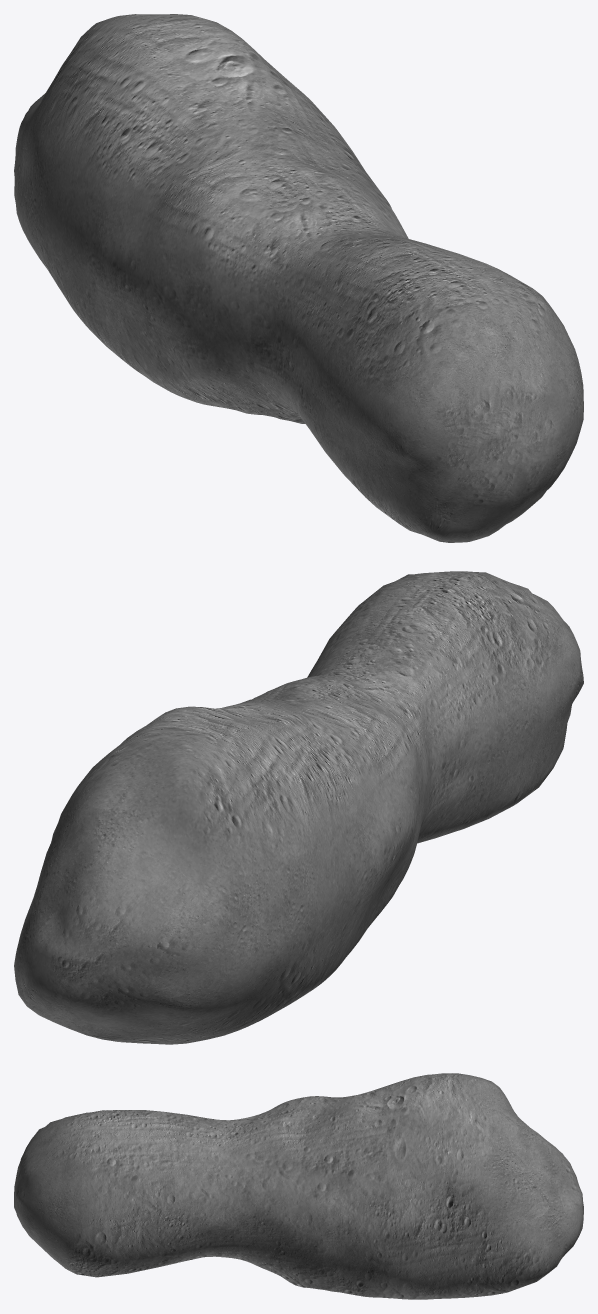
Rendered from hartley.glb.
The picture shows the model from 3 angles, top to bottom: view 1: azimuth 30°, elevation 25°; view 2: azimuth 150°, elevation 25°; view 3: azimuth 270°, elevation 25°; orthographic projection. The views are drawn at different scales.
Parts seen in each view (by area): view 1: Hartley_2; view 2: Hartley_2; view 3: Hartley_2.
Boxes of the visible parts, left/top/right/bottom form: Hartley_2: left=14, top=14, right=583, bottom=542; Hartley_2: left=14, top=571, right=583, bottom=1044; Hartley_2: left=14, top=1073, right=583, bottom=1299.
Size of the model in its own units: 788 by 920 by 2300.
Materials: 1 (1 with a texture image).
